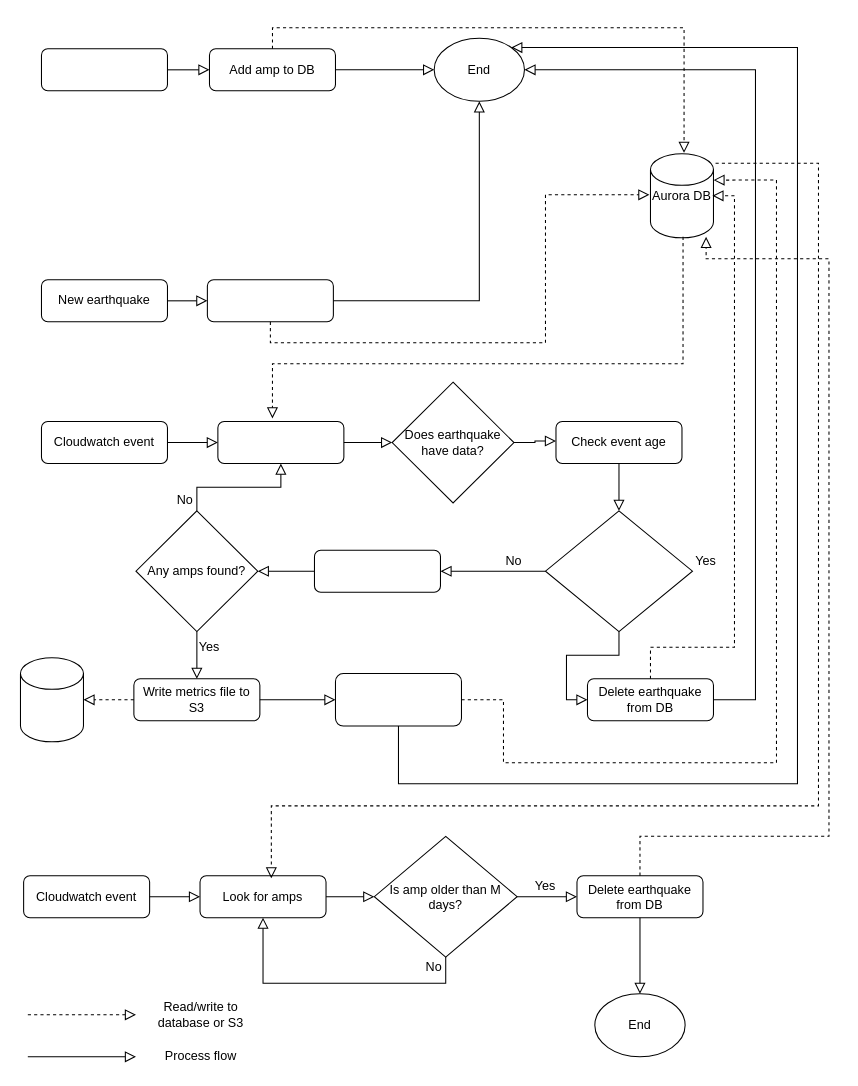
The diagram is 858 pixels wide and 1086 high, and some of its shapes have lost their labels. The centre of each missing label's shape, as x and y in pixels:
"Add earthquake to DB" belongs at [269,300].
"Delete amps from DB" belongs at [397,699].
"Is event older than N days?" belongs at [618,571].
"Look for earthquakes with no data" belongs at [280,442].
"New amplitude" belongs at [103,69].
"Run association algorithm" belongs at [376,570].
"S3" belongs at [51,699].
